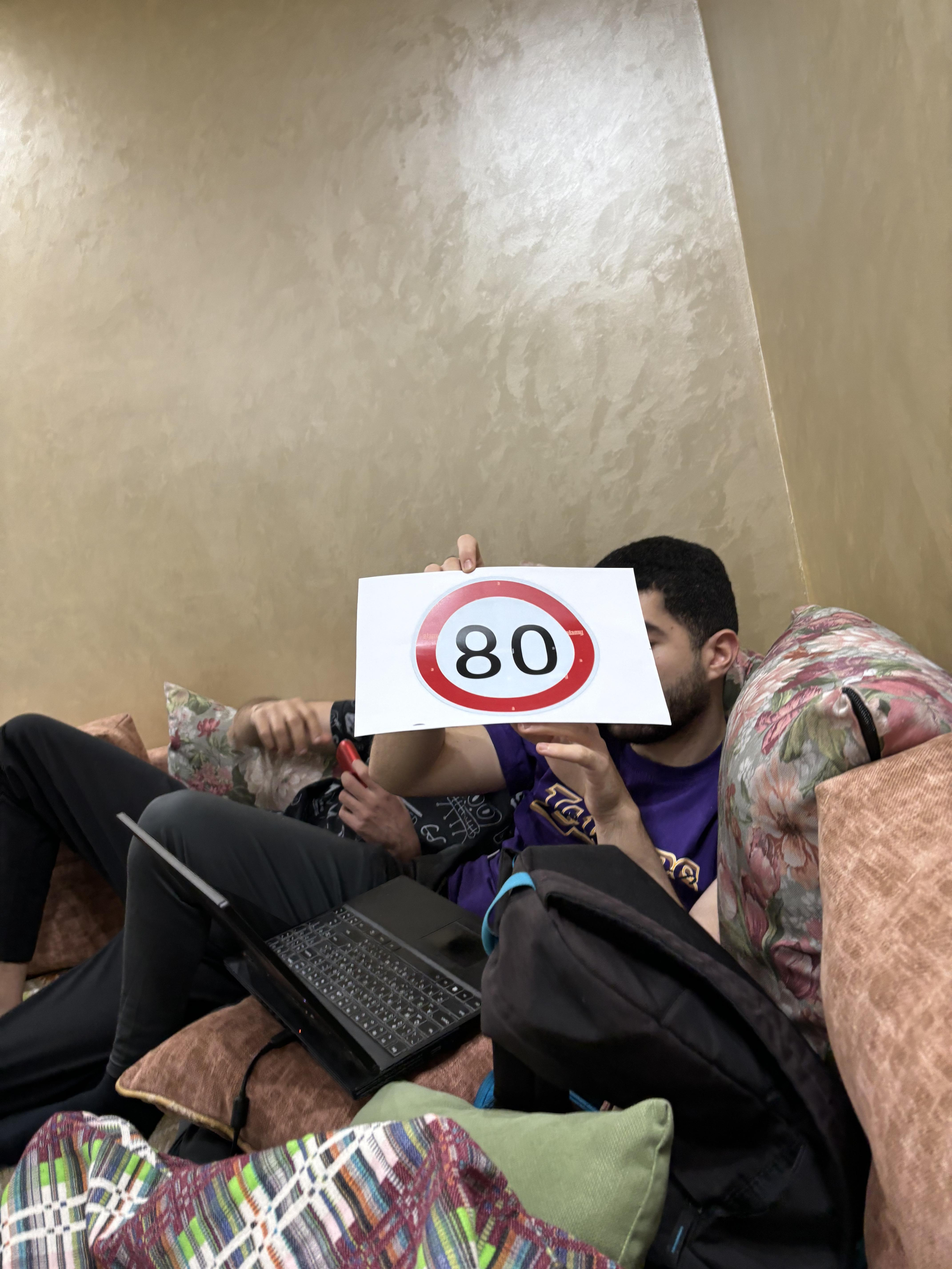80-Speed: (407, 574, 603, 721)
